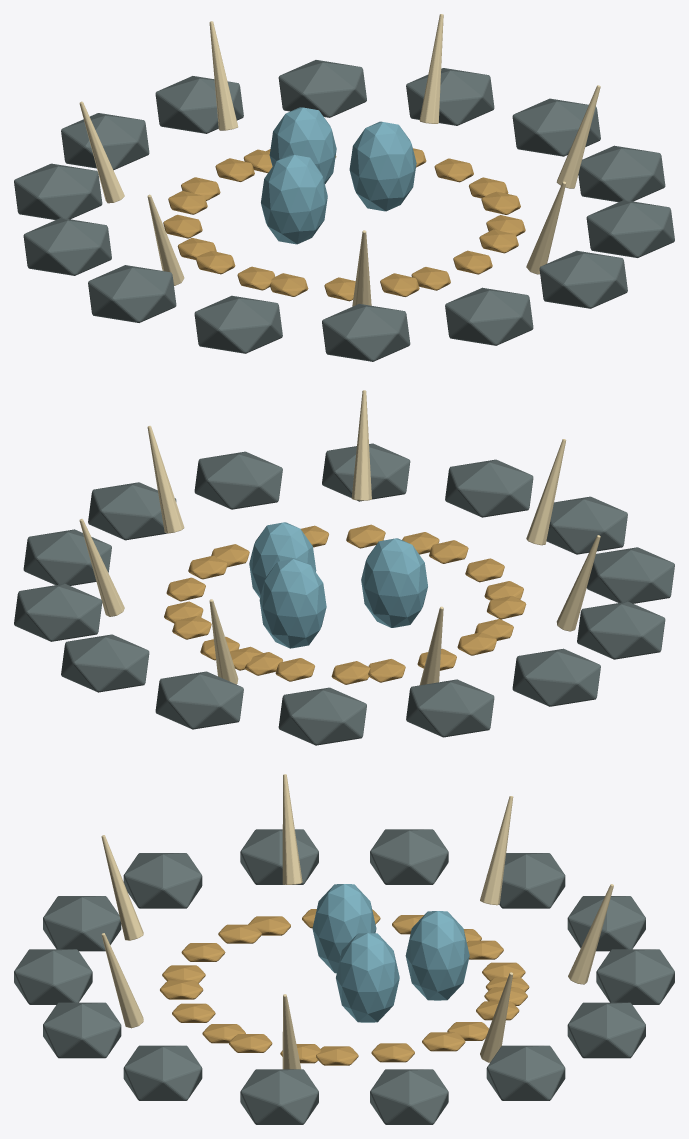
Rendered from dragon_nest.glb.
3 views of the same model, one above another, from view 1: azimuth 30°, elevation 25°; view 2: azimuth 150°, elevation 25°; view 3: azimuth 270°, elevation 25° (orthographic).
Parts seen in each view (by area): view 1: RimStone, DragonEgg, HoardGold, Rib; view 2: RimStone, HoardGold, DragonEgg, Rib; view 3: RimStone, DragonEgg, HoardGold, Rib.
Boxes of the visible parts, bbox=[...] form: RimStone: bbox=[14, 60, 674, 361]; DragonEgg: bbox=[261, 107, 416, 244]; HoardGold: bbox=[163, 148, 525, 301]; Rib: bbox=[79, 14, 600, 306]; RimStone: bbox=[14, 443, 674, 745]; HoardGold: bbox=[164, 524, 526, 684]; DragonEgg: bbox=[249, 522, 427, 648]; Rib: bbox=[79, 390, 600, 685]; RimStone: bbox=[14, 829, 674, 1124]; DragonEgg: bbox=[312, 884, 469, 1022]; HoardGold: bbox=[160, 909, 529, 1065]; Rib: bbox=[101, 774, 613, 1069].
Size of the model in its own units: 11.33 by 2.26 by 11.35.
